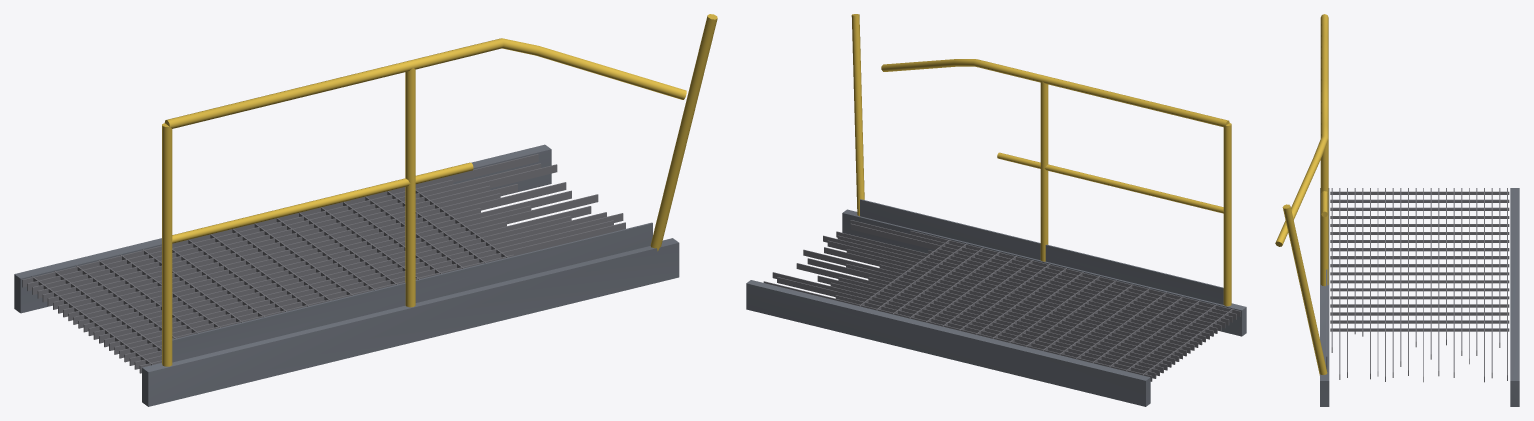
The model's file is walkway_torn.glb.
3 views of the same model, side by side, from view 1: azimuth 30°, elevation 25°; view 2: azimuth 150°, elevation 25°; view 3: azimuth 270°, elevation 25° (orthographic). The views are drawn at different scales.
Parts seen in each view (by area): view 1: walkway_torn; view 2: walkway_torn; view 3: walkway_torn.
Boxes of the visible parts, bbox=[...] form: walkway_torn: bbox=[14, 14, 717, 406]; walkway_torn: bbox=[746, 14, 1246, 406]; walkway_torn: bbox=[1275, 14, 1519, 406].
Bounding box in the file's own units: 2.47 × 1.21 × 1.28.
